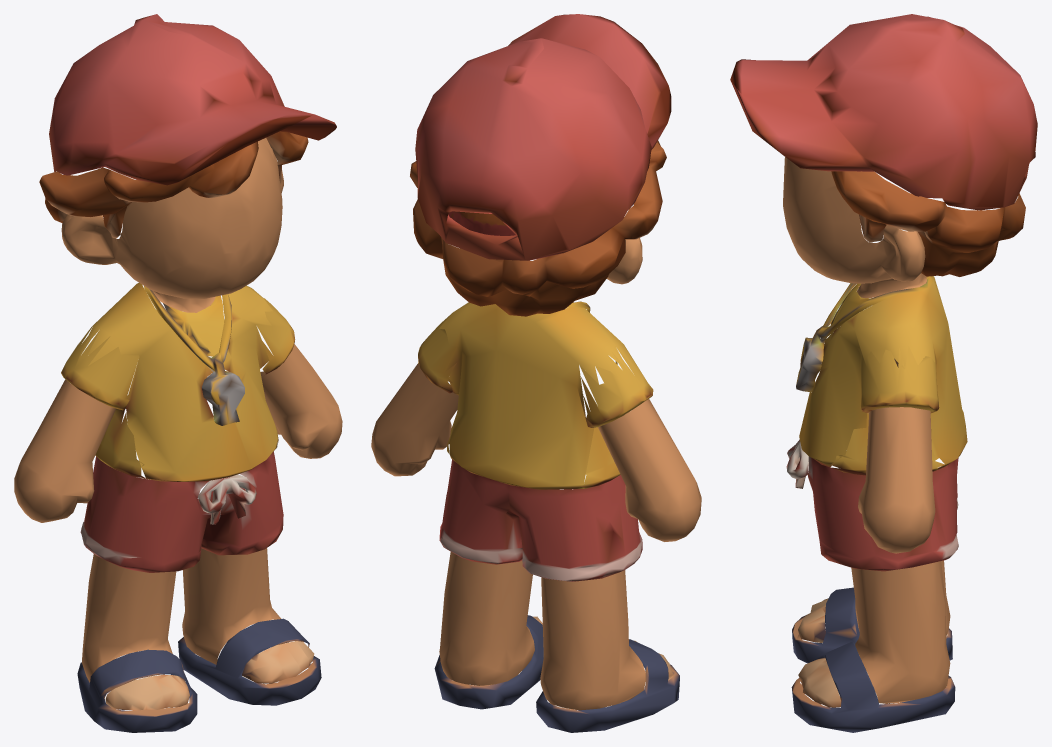
3 views of the same model, side by side, from view 1: azimuth 30°, elevation 25°; view 2: azimuth 150°, elevation 25°; view 3: azimuth 270°, elevation 25° (orthographic).
Visible parts, largest first — view 1: acc_head_0, top, head, skirt, hand_r, hair, shoe_l, leg_r, shoe_r, leg_l, hand_l, sleeve_r (+1 smaller); view 2: acc_head_0, top, skirt, hair, leg_r, leg_l, hand_r, hand_l, shoe_r, sleeve_r, shoe_l, sleeve_l (+2 smaller); view 3: acc_head_0, top, leg_l, head, hair, hand_l, skirt, shoe_l, sleeve_l, shoe_r.
Part boxes in pixels (bbox=[...]): acc_head_0: bbox=[49, 14, 336, 185]; top: bbox=[79, 283, 277, 524]; head: bbox=[61, 138, 283, 312]; skirt: bbox=[80, 451, 283, 572]; hand_r: bbox=[14, 379, 115, 522]; hair: bbox=[39, 131, 308, 238]; shoe_l: bbox=[178, 618, 321, 705]; leg_r: bbox=[82, 554, 176, 682]; shoe_r: bbox=[77, 649, 197, 732]; leg_l: bbox=[182, 548, 281, 664]; hand_l: bbox=[260, 344, 342, 458]; sleeve_r: bbox=[61, 328, 145, 478]; acc_head_0: bbox=[415, 14, 671, 260]; top: bbox=[439, 301, 639, 489]; skirt: bbox=[439, 459, 642, 581]; hair: bbox=[410, 140, 666, 316]; leg_r: bbox=[540, 570, 645, 710]; leg_l: bbox=[439, 552, 534, 685]; hand_r: bbox=[598, 399, 701, 541]; hand_l: bbox=[371, 363, 458, 476]; shoe_r: bbox=[536, 639, 679, 732]; sleeve_r: bbox=[579, 344, 653, 488]; shoe_l: bbox=[434, 615, 543, 709]; sleeve_l: bbox=[418, 313, 456, 454]; acc_head_0: bbox=[730, 14, 1037, 210]; top: bbox=[786, 276, 967, 488]; leg_l: bbox=[851, 561, 950, 703]; head: bbox=[783, 157, 927, 298]; hair: bbox=[831, 171, 1025, 276]; hand_l: bbox=[858, 407, 935, 553]; skirt: bbox=[807, 456, 958, 571]; shoe_l: bbox=[791, 642, 955, 732]; sleeve_l: bbox=[831, 346, 944, 475]; shoe_r: bbox=[792, 587, 952, 663].
Bounding box in the file's own units: 0.5217 × 1.03 × 0.4357.
